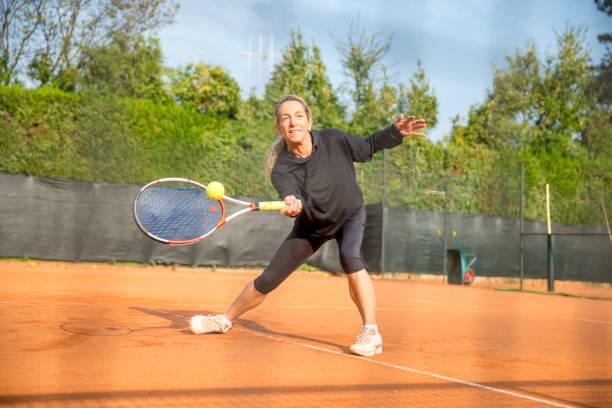ball_tennis: (207, 181, 224, 200)
